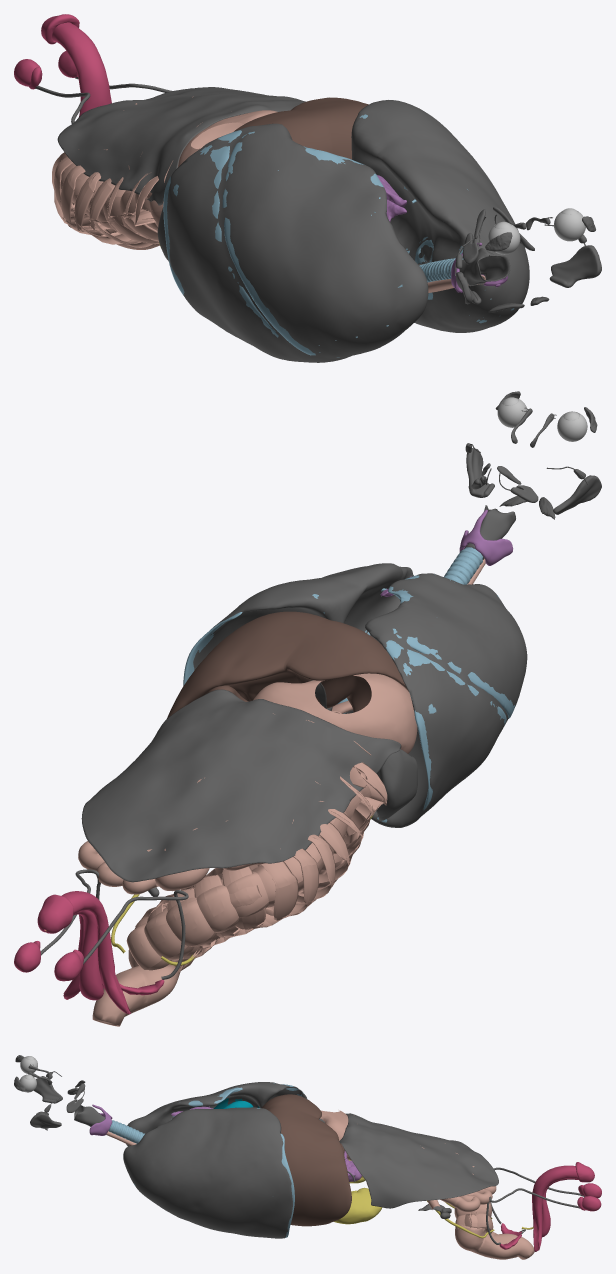
The model's file is organs-zanat.glb.
3 views of the same model, one above another, from view 1: azimuth 30°, elevation 25°; view 2: azimuth 150°, elevation 25°; view 3: azimuth 270°, elevation 25° (orthographic). The views are drawn at different scales.
Parts seen in each view (by area): view 1: organs-zanat; view 2: organs-zanat; view 3: organs-zanat.
Boxes of the visible parts, <box> form: organs-zanat: <box>14,14,601,362</box>; organs-zanat: <box>14,391,601,1026</box>; organs-zanat: <box>14,1055,601,1259</box>.
Size of the model in its own units: 262 by 307 by 864.
